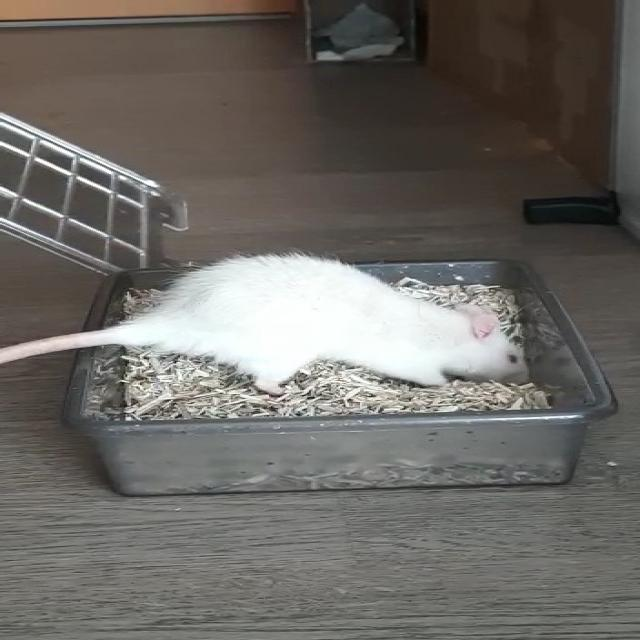rat: (136, 256, 529, 392)
